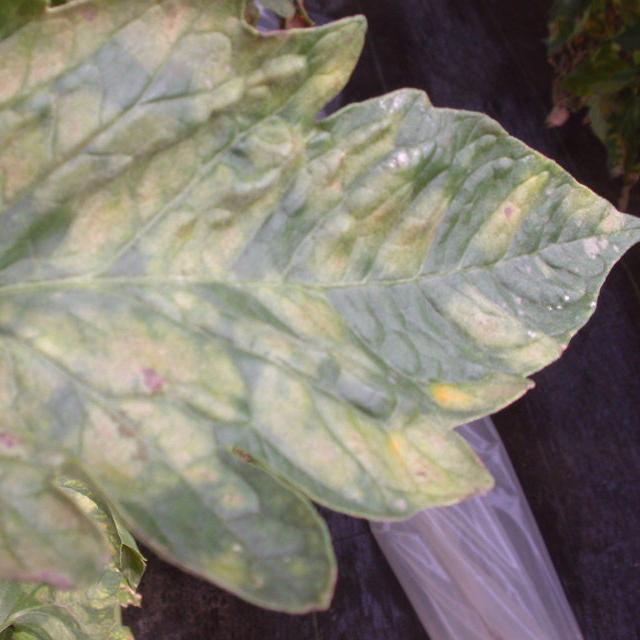Tomato mold leaf: (0, 0, 640, 617)
